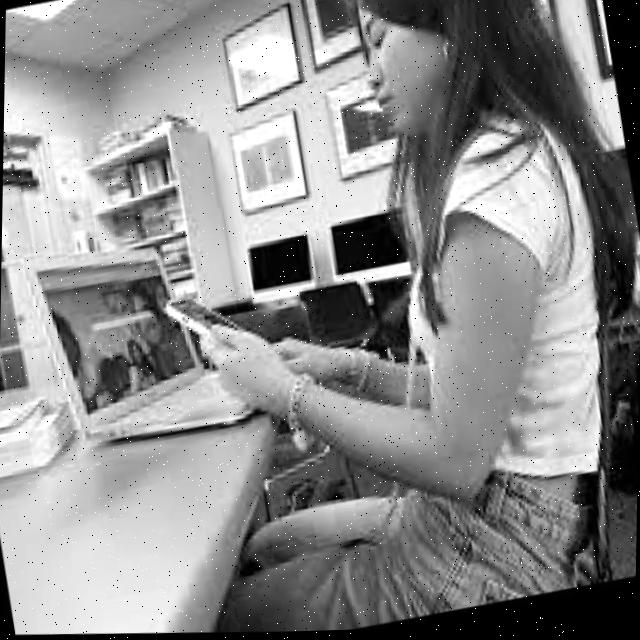phone: (157, 283, 242, 351)
